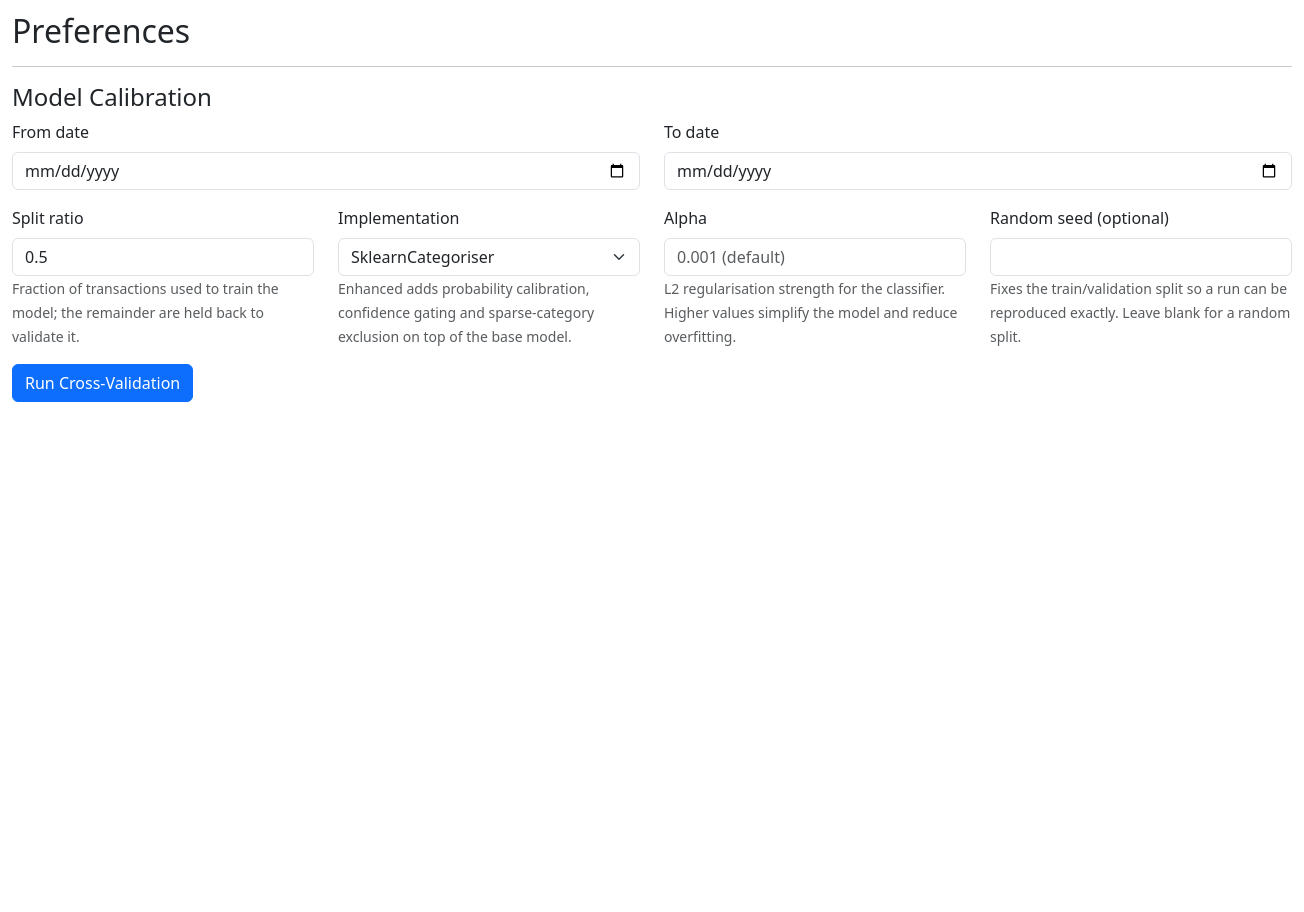
Test: Preferences › should show results after running cross-validation
Type "2025-01-01" into the date field labelled "From date" at (326, 171), box x1=12 y1=152 x2=640 y2=190
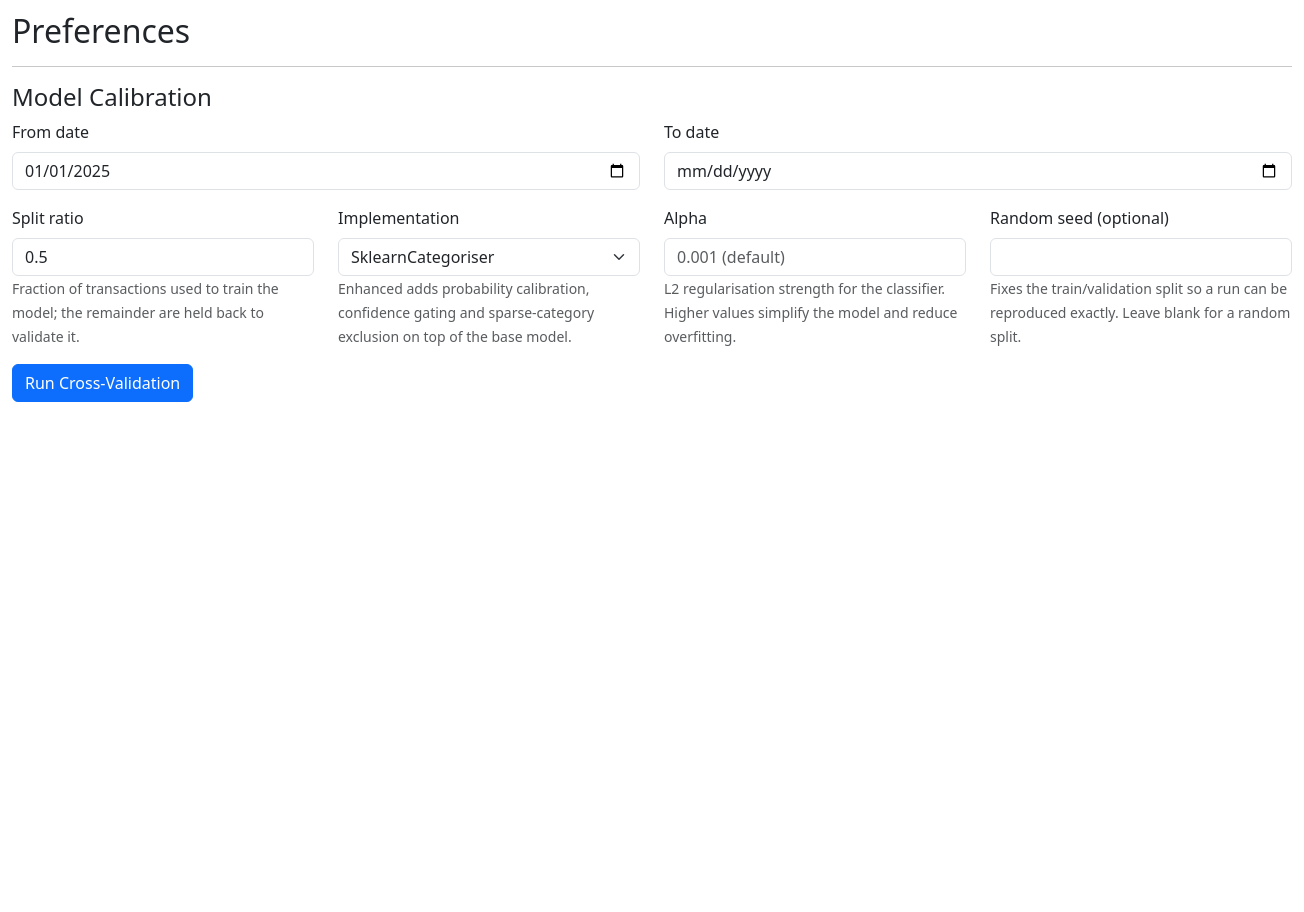
Type "2025-12-31" into the date field labelled "To date" at (978, 171), box x1=664 y1=152 x2=1292 y2=190
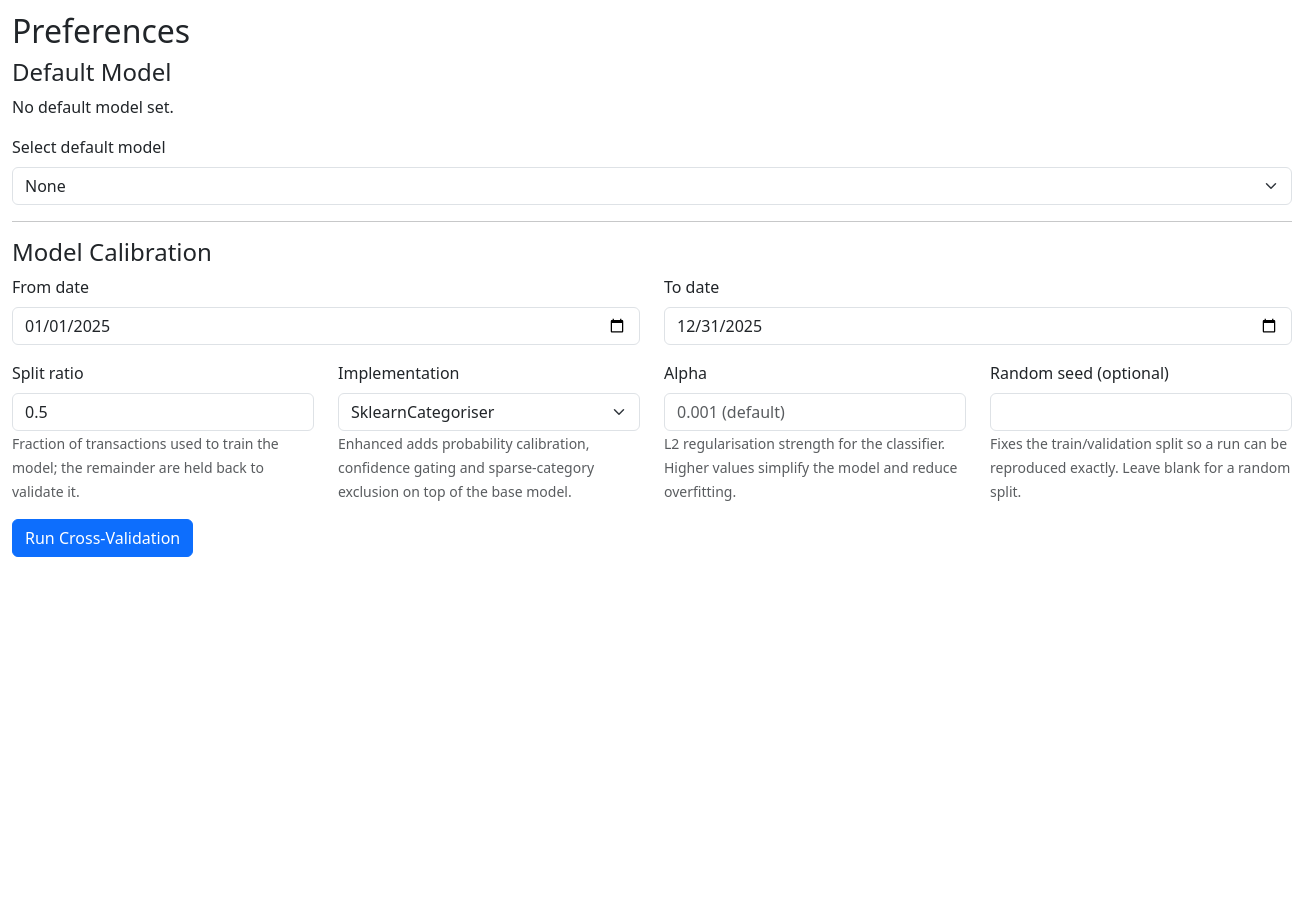
Click the button "Run Cross-Validation" at (103, 538), box x1=12 y1=519 x2=193 y2=557
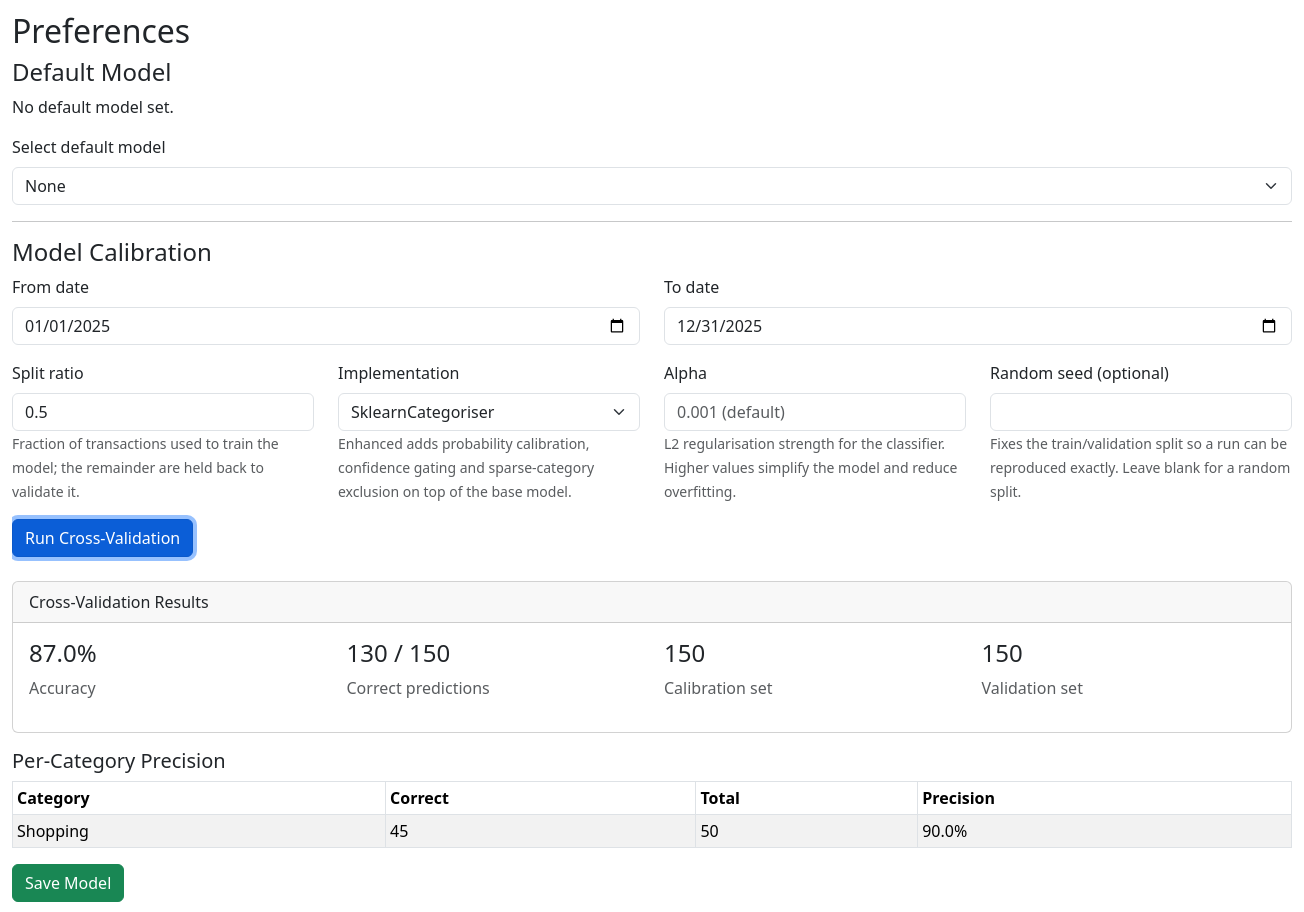
Expected: the heading "87.0%" is shown, x1=29 y1=636 x2=97 y2=669
Expected: the heading "130 / 150" is shown, x1=346 y1=636 x2=450 y2=669
